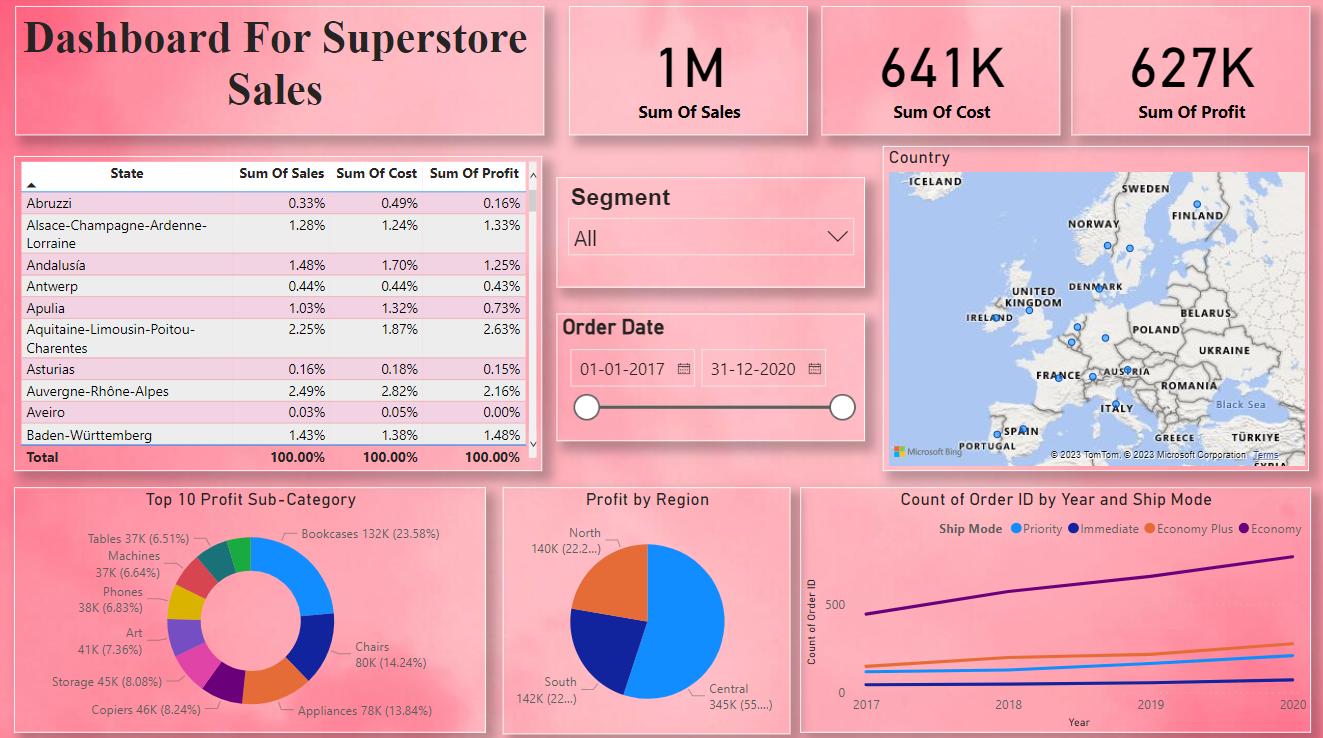

This screenshot's page, from the dashboard's own definition file:
{"tool":"powerbi","page":{"name":"Page 1","canvas":[1280,720],"ordinal":0},"visuals":[{"type":"card","fields":{"Values":["Sum(List of Orders.Sales)"]},"box":[550.1,9.6,230.5,124.8],"z":0},{"type":"card","fields":{"Values":["Sum(List of Orders.Cost)"]},"box":[793,9.6,230.5,124.8],"z":1000},{"type":"card","fields":{"Values":["Sum(List of Orders.Profit)"]},"box":[1034.4,9.6,230.5,124.8],"z":2000},{"type":"textbox","box":[15.1,9.6,510.4,124.8],"z":3000},{"type":"tableEx","fields":{"Values":["List of Orders.State","Sum(List of Orders.Sales)","Sum(List of Orders.Cost)","Sum(List of Orders.Profit)"]},"box":[14.8,154.3,509.9,303.7],"z":4000},{"type":"donutChart","title":"Top 10 Profit Sub-Category ","fields":{"Category":["List of Orders.Sub-Category"],"Y":["Sum(List of Orders.Profit)"]},"box":[14.8,474.1,455.6,237],"z":5000},{"type":"pieChart","fields":{"Category":["List of Orders.Region"],"Y":["Sum(List of Orders.Profit)"]},"box":[486.4,474.1,277.8,238.3],"z":6000},{"type":"lineChart","fields":{"Y":["Count(List of Orders.Order ID)"],"Series":["List of Orders.Ship Mode"],"Category":["List of Orders.Order Date.Variation.Date Hierarchy.Year","List of Orders.Order Date.Variation.Date Hierarchy.Quarter"]},"box":[772.8,474.1,492.6,237],"z":7000},{"type":"map","fields":{"Category":["List of Orders.Country"]},"box":[852.7,144.7,411.3,313.6],"z":8000},{"type":"slicer","fields":{"Values":["List of Orders.Segment"]},"box":[537.9,174.9,297.9,106.1],"z":9000},{"type":"slicer","title":"Order Date","fields":{"Values":["List of Orders.Order Date"]},"box":[537.9,306.3,297.9,123],"z":10000}]}

Visuals, with their boxes in screenshot pixels (x1, y1, x2, y2), scaled from the page's 1280x720 canvas onto the 1323x738 screenshot:
card - Sum(List of Orders.Sales): {"left": 569, "top": 10, "right": 807, "bottom": 138}
card - Sum(List of Orders.Cost): {"left": 820, "top": 10, "right": 1058, "bottom": 138}
card - Sum(List of Orders.Profit): {"left": 1069, "top": 10, "right": 1307, "bottom": 138}
textbox: {"left": 16, "top": 10, "right": 543, "bottom": 138}
tableEx - List of Orders.State x Sum(List of Orders.Sales): {"left": 15, "top": 158, "right": 542, "bottom": 469}
"Top 10 Profit Sub-Category " donutChart: {"left": 15, "top": 486, "right": 486, "bottom": 729}
pieChart - List of Orders.Region x Sum(List of Orders.Profit): {"left": 503, "top": 486, "right": 790, "bottom": 730}
lineChart - Count(List of Orders.Order ID) x List of Orders.Ship Mode: {"left": 799, "top": 486, "right": 1308, "bottom": 729}
map - List of Orders.Country: {"left": 881, "top": 148, "right": 1306, "bottom": 470}
slicer - List of Orders.Segment: {"left": 556, "top": 179, "right": 864, "bottom": 288}
"Order Date" slicer: {"left": 556, "top": 314, "right": 864, "bottom": 440}
